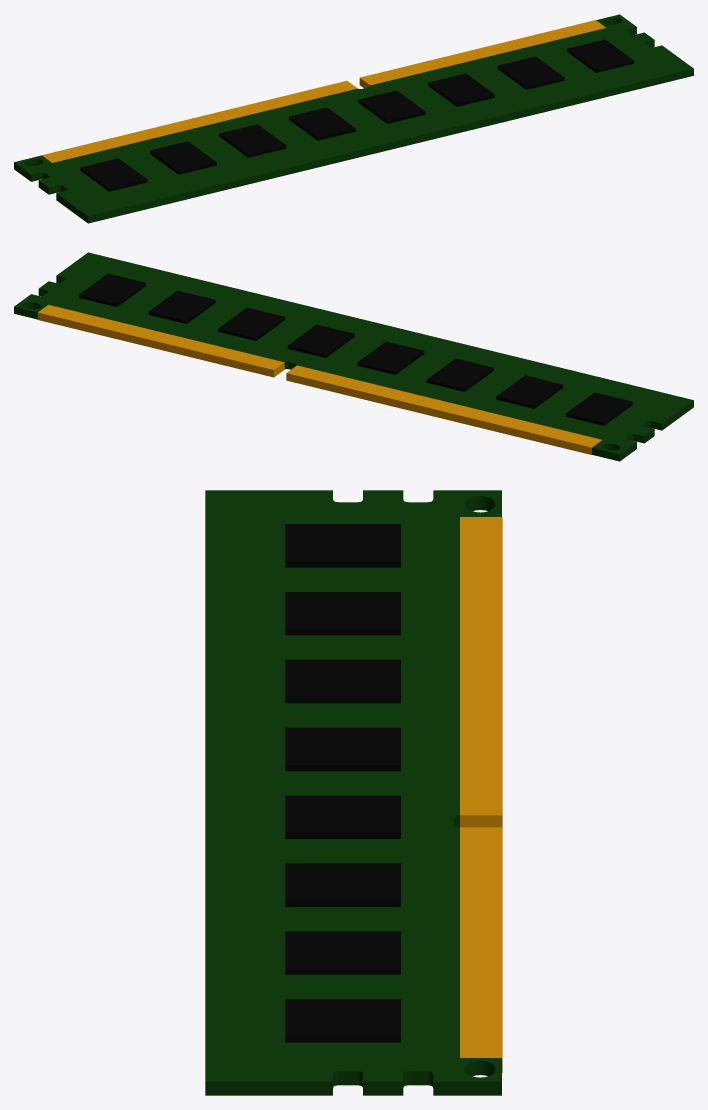
File: ram.FBX
The picture shows the model from 3 angles, top to bottom: view 1: azimuth 30°, elevation 25°; view 2: azimuth 150°, elevation 25°; view 3: azimuth 270°, elevation 25°; orthographic projection. The views are drawn at different scales.
Visible parts, largest first — view 1: ram008; view 2: ram008; view 3: ram008.
Part boxes in pixels (x1,y1,x2,y2): ram008: [14, 14, 693, 223]; ram008: [14, 252, 693, 461]; ram008: [205, 490, 502, 1095].
Bounding box in the file's own units: 13.31 × 0.2822 × 2.83.
